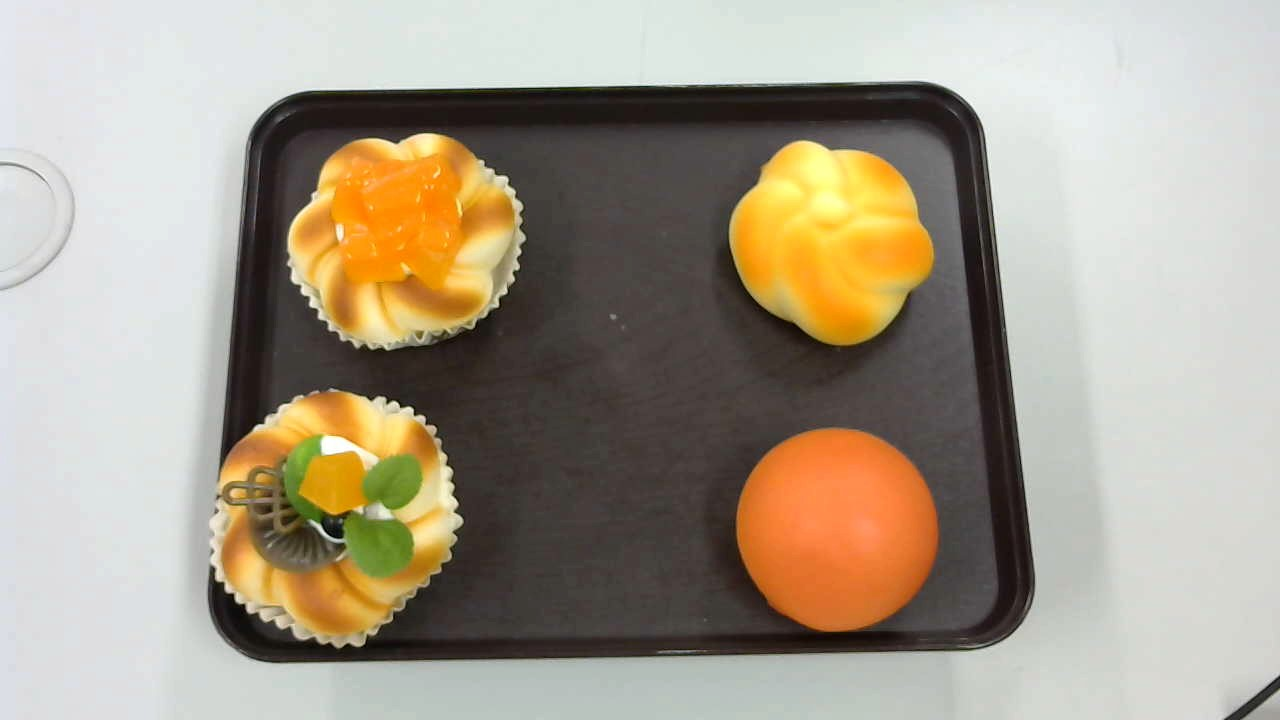bun: (736, 426, 938, 631)
fruit tart: (210, 387, 460, 652)
mango tart: (286, 134, 525, 354)
twist bread: (728, 140, 936, 348)
